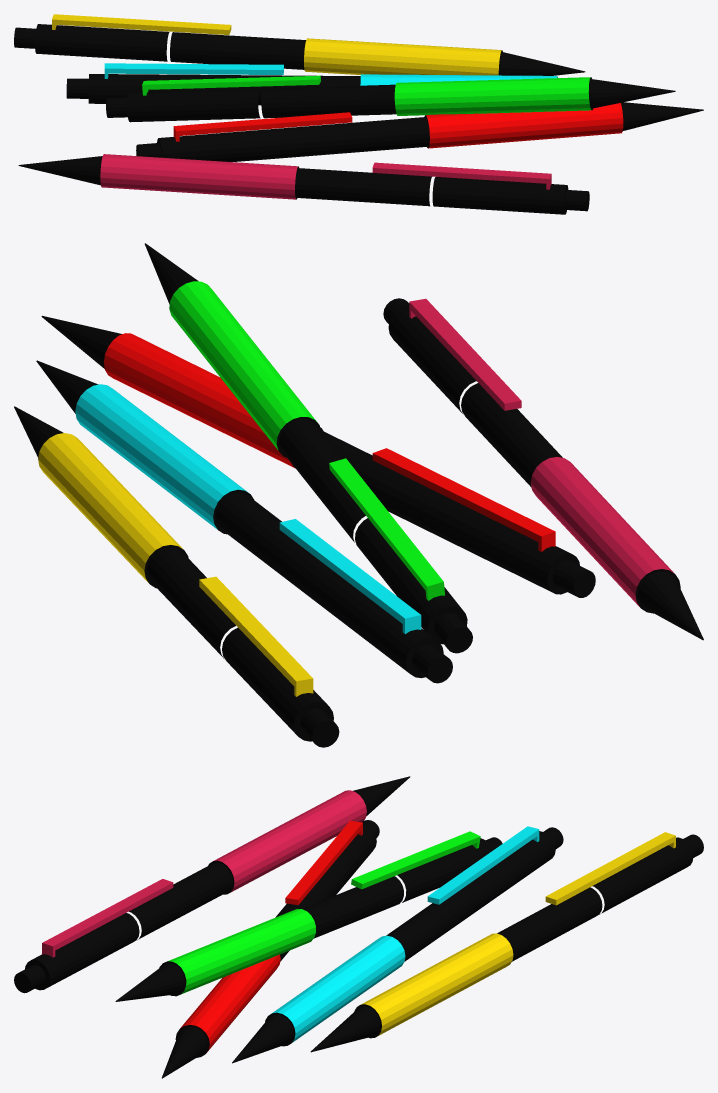
Rendered from pens.glb.
3 renders of one model, top to bottom at view 1: azimuth 30°, elevation 25°; view 2: azimuth 150°, elevation 25°; view 3: azimuth 270°, elevation 25°, orthographic. The views are drawn at different scales.
Visible parts, largest first — view 1: pens; view 2: pens; view 3: pens.
Boxes of the visible parts, x1,y1,x2,y2 form: pens: (14, 14, 703, 214); pens: (14, 243, 703, 747); pens: (14, 776, 703, 1078).
Size of the model in its own units: 0.16 by 0.0186 by 0.1547.
